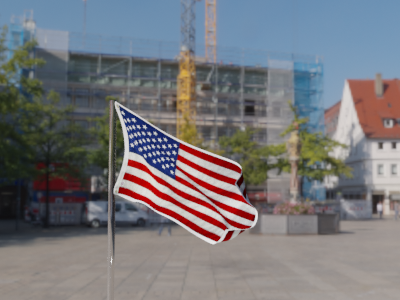America flag: (112, 101, 260, 245)
